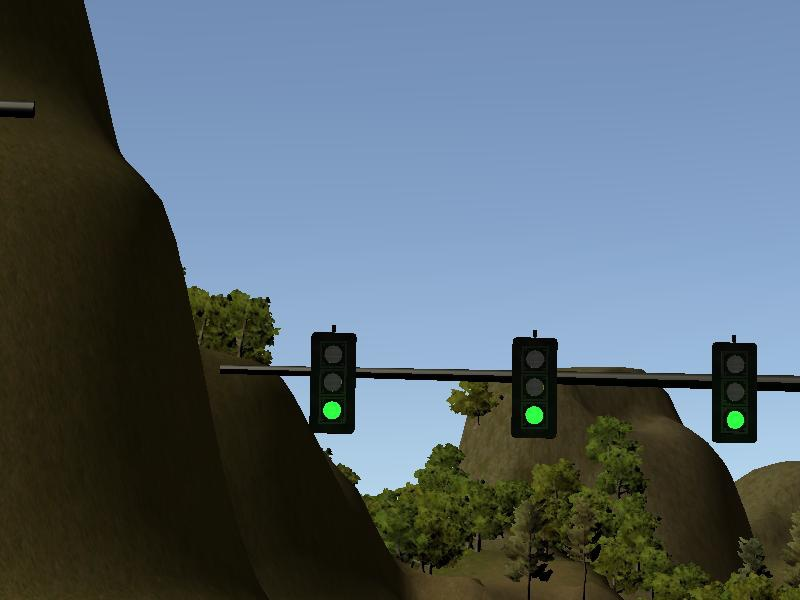Green: (310, 333, 355, 433), (712, 344, 756, 444), (513, 337, 556, 438)
